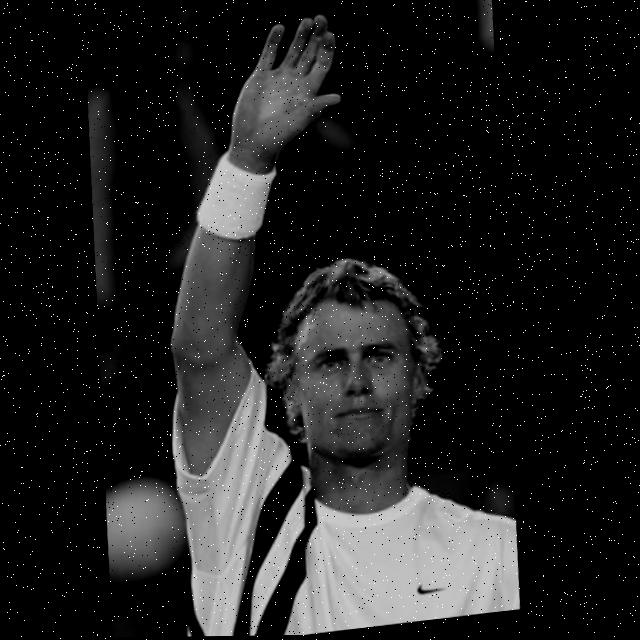face: (273, 274, 437, 489)
